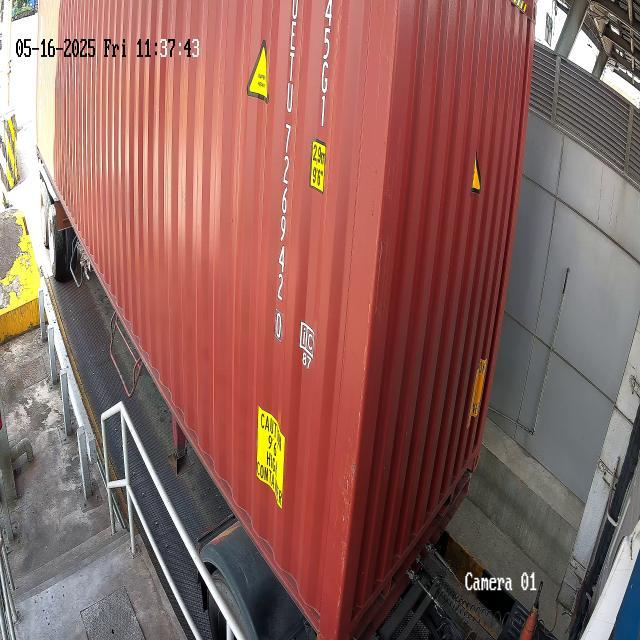ISO: (314, 0, 334, 134)
container_number: (271, 0, 305, 321)
